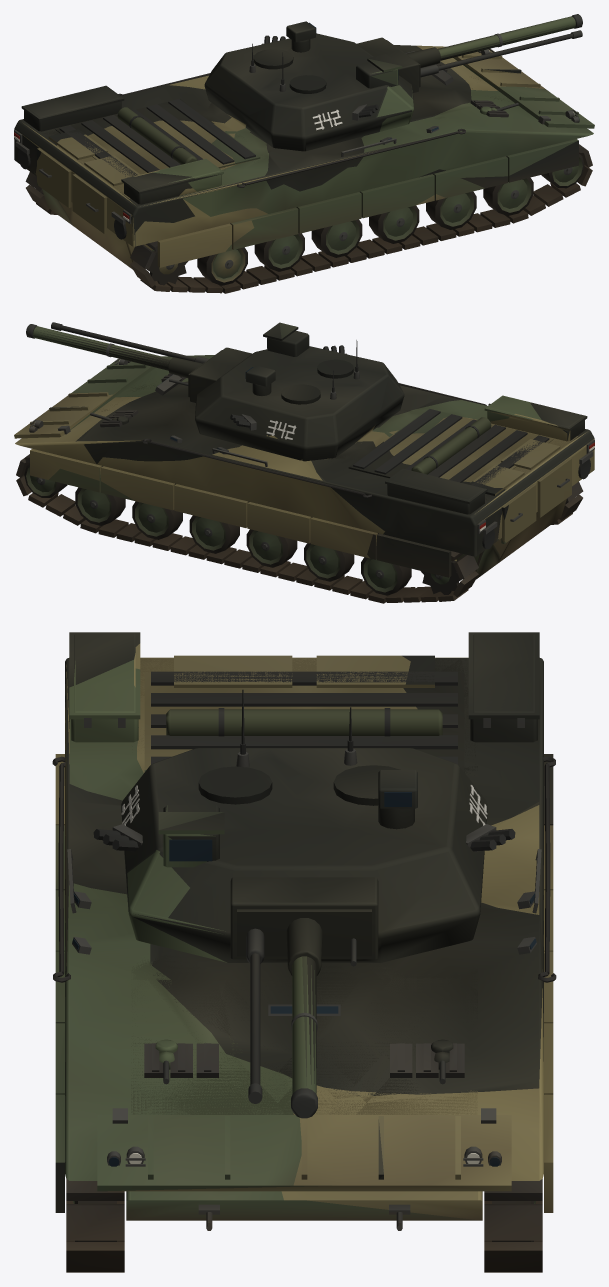
The model's file is bmp3.glb.
3 views of the same model, one above another, from view 1: azimuth 30°, elevation 25°; view 2: azimuth 150°, elevation 25°; view 3: azimuth 270°, elevation 25° (orthographic). The views are drawn at different scales.
Visible parts, largest first — view 1: hull, turret, gun, wheel_R3, wheel_R2, wheel_R0, wheel_R4, wheel_R1, wheel_R5, sprocket_R, idler_R; view 2: hull, turret, gun, wheel_L3, wheel_L2, wheel_L1, wheel_L4, wheel_L5, wheel_L0, sprocket_L, idler_L; view 3: hull, turret, gun.
Part boxes in pixels (<box>): hull: <box>14,45,594,293</box>; turret: <box>204,21,413,151</box>; gun: <box>356,14,582,92</box>; wheel_R3: <box>311,219,362,257</box>; wheel_R2: <box>369,205,419,243</box>; wheel_R0: <box>483,177,533,215</box>; wheel_R4: <box>254,233,304,271</box>; wheel_R1: <box>426,191,476,229</box>; wheel_R5: <box>197,247,247,285</box>; sprocket_R: <box>146,249,188,285</box>; idler_R: <box>541,154,584,188</box>; hull: <box>14,355,594,603</box>; turret: <box>195,322,404,461</box>; gun: <box>26,322,251,402</box>; wheel_L3: <box>246,529,297,567</box>; wheel_L2: <box>189,515,239,553</box>; wheel_L1: <box>132,501,182,539</box>; wheel_L4: <box>304,543,354,581</box>; wheel_L5: <box>361,557,411,595</box>; wheel_L0: <box>75,487,125,525</box>; sprocket_L: <box>421,559,462,594</box>; idler_L: <box>24,464,67,497</box>; hull: <box>52,632,556,1272</box>; turret: <box>93,689,515,962</box>; gun: <box>230,877,378,1118</box>.
Size of the model in its own units: 7.71 by 2.65 by 3.28.
